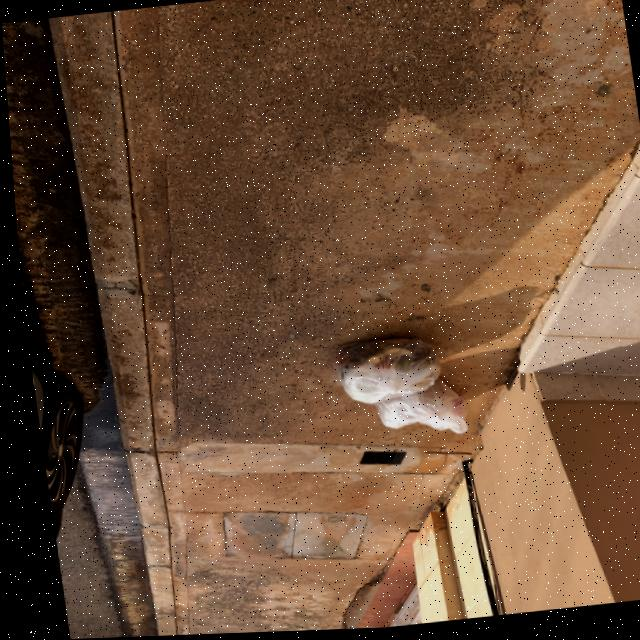Organic Waste -White Bag-: (312, 324, 441, 409), (367, 381, 463, 444)
